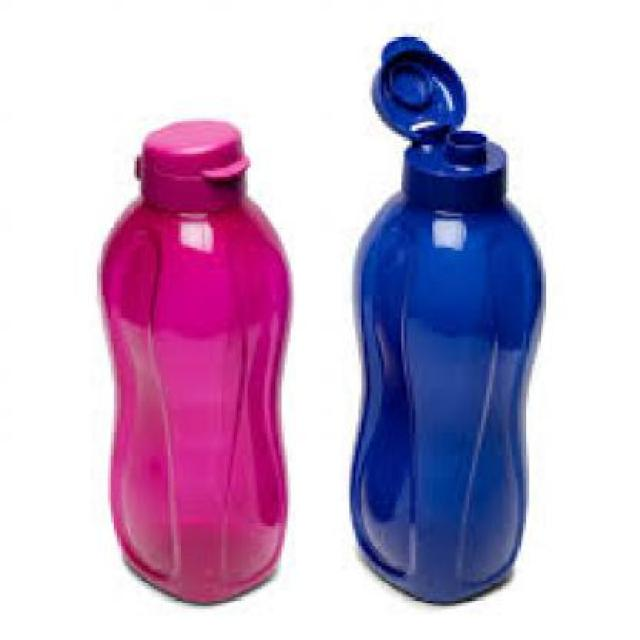Drinking: (338, 37, 540, 609), (94, 105, 292, 606)
